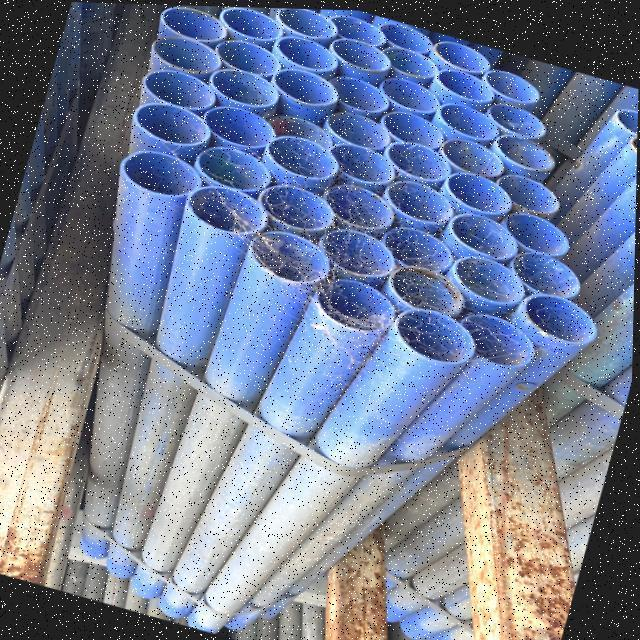pipe: (313, 269, 398, 329), (394, 302, 475, 358), (246, 224, 326, 280), (318, 174, 395, 231), (456, 307, 534, 362), (487, 204, 570, 255), (184, 179, 263, 232), (503, 243, 581, 296), (384, 171, 454, 230), (370, 223, 454, 272), (319, 224, 397, 276), (388, 258, 464, 311), (193, 137, 269, 189), (120, 149, 204, 196), (521, 287, 595, 340), (453, 248, 525, 302), (200, 102, 276, 153), (141, 64, 222, 111), (257, 178, 331, 229), (486, 167, 561, 217), (131, 100, 212, 146), (444, 206, 518, 255), (264, 131, 336, 180), (325, 139, 394, 190), (439, 163, 510, 212), (314, 69, 390, 113), (205, 35, 288, 74), (380, 137, 449, 183), (321, 104, 393, 148), (201, 65, 278, 106), (434, 130, 504, 174), (481, 89, 546, 136), (372, 105, 448, 144), (489, 127, 552, 172), (374, 71, 437, 115), (155, 27, 219, 70), (161, 5, 230, 44), (319, 32, 388, 71), (269, 63, 334, 104), (435, 96, 498, 138), (376, 36, 434, 77), (263, 113, 335, 146), (432, 64, 493, 102), (273, 30, 332, 69), (214, 5, 277, 41), (479, 62, 538, 100), (426, 33, 488, 69), (269, 6, 332, 36), (323, 13, 378, 44), (376, 18, 425, 47), (612, 101, 638, 127)
